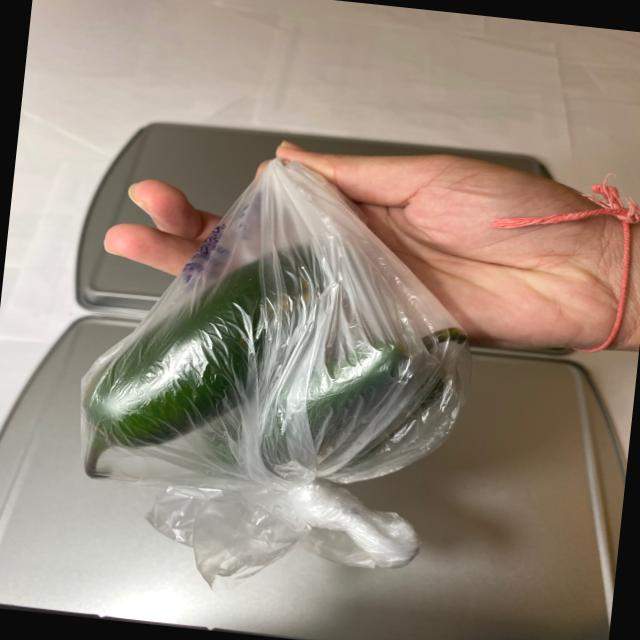chilli: (78, 215, 470, 522)
